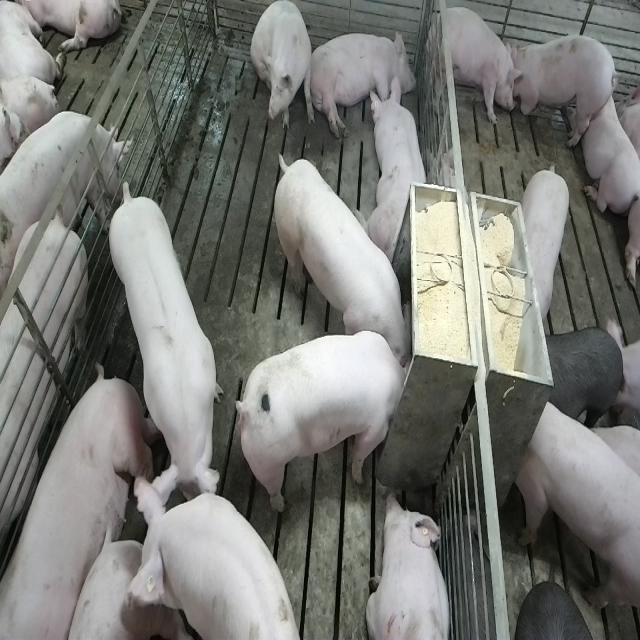Feeding: (244, 329, 418, 516), (270, 146, 411, 364)
Lateral_lying: (3, 365, 156, 640), (307, 27, 417, 139)
Sitting: (250, 2, 316, 138)
Standing: (103, 180, 222, 519), (0, 209, 90, 628), (120, 477, 300, 640), (516, 394, 638, 618), (0, 107, 126, 276), (510, 30, 614, 150), (432, 5, 520, 130), (545, 320, 626, 427), (521, 160, 573, 324)
Sternal_lying: (365, 489, 453, 640), (365, 75, 431, 261), (580, 80, 639, 212)
